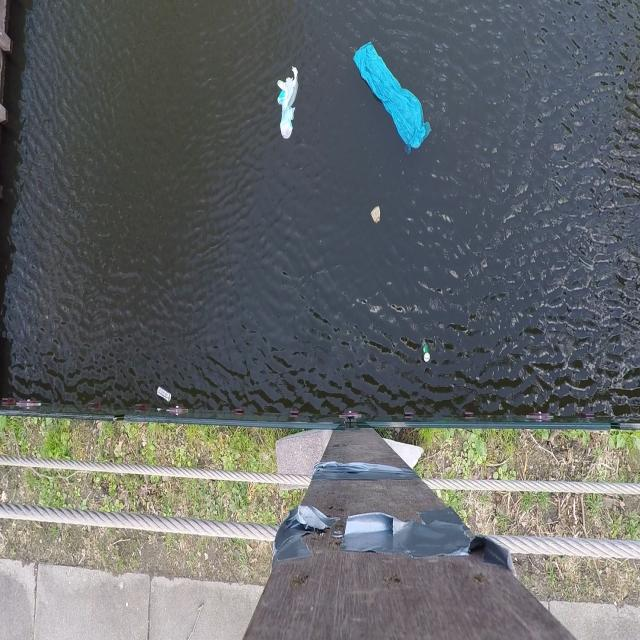Non plastique: (416, 334, 432, 367), (154, 381, 173, 405), (368, 201, 385, 226)
Sac plastique: (344, 30, 442, 170), (273, 58, 304, 147)
